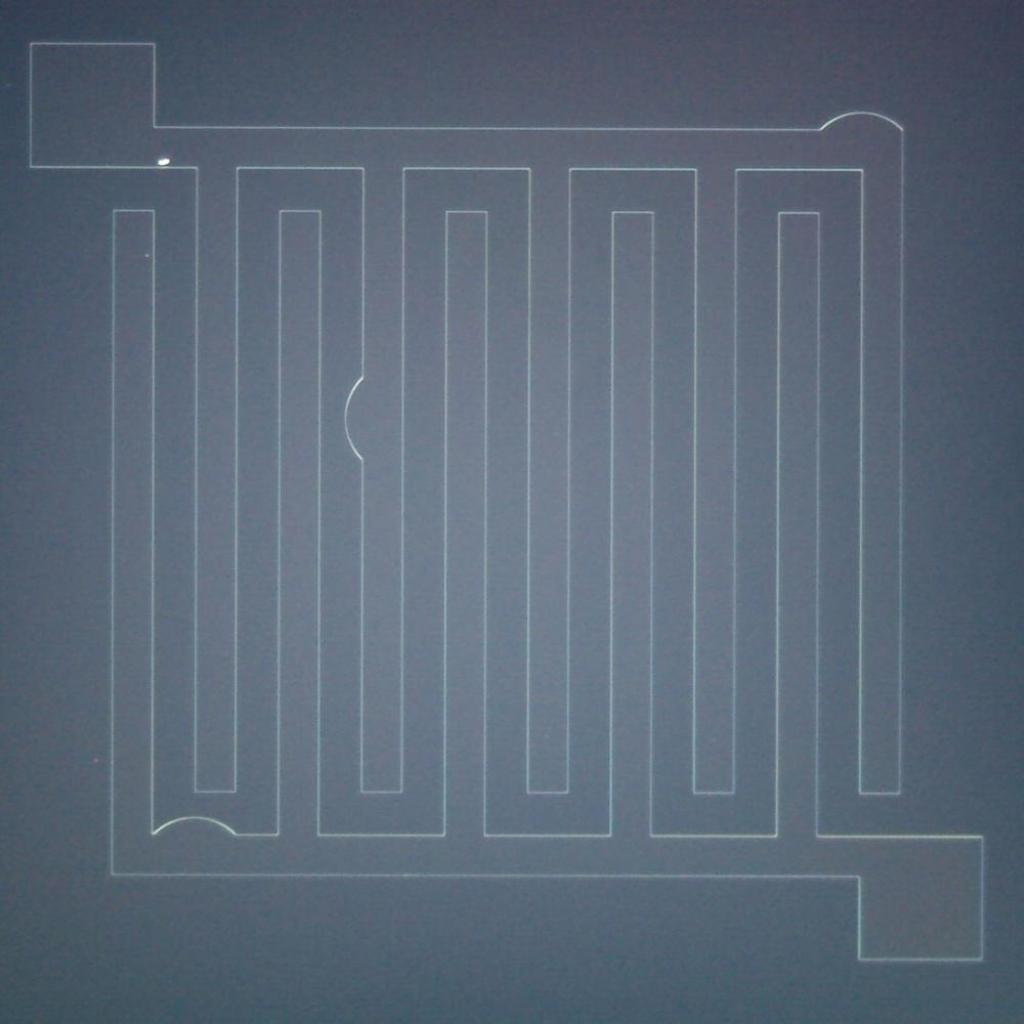dot: (160, 157, 170, 166), (146, 253, 150, 257), (94, 758, 98, 762)
